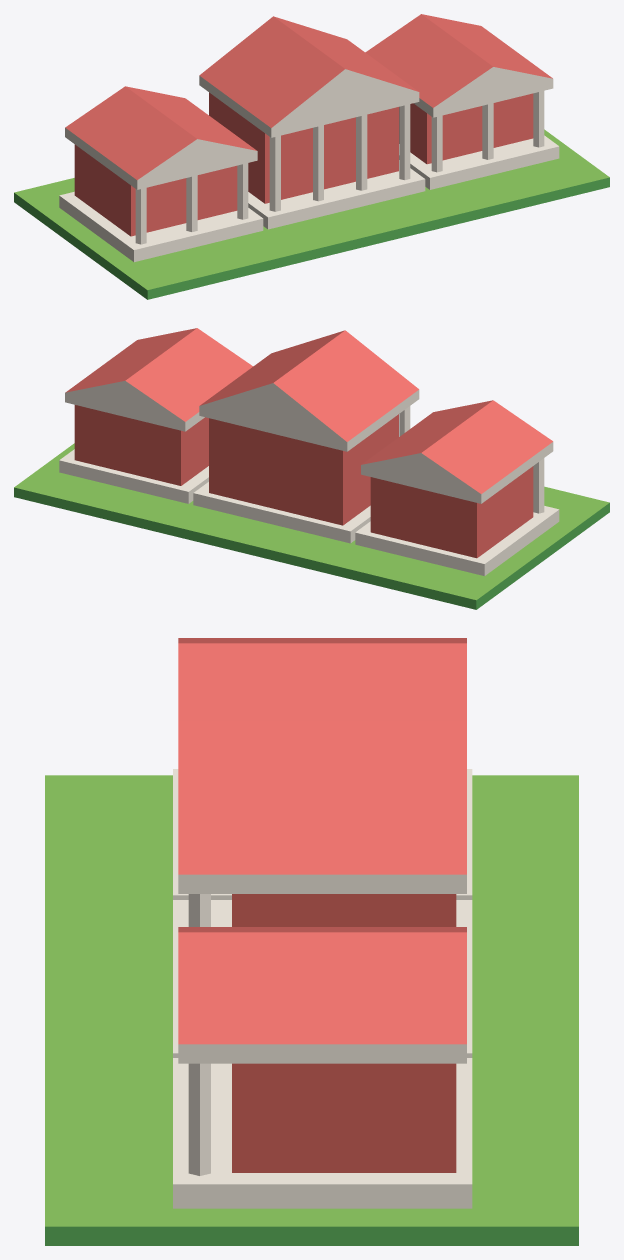
File: skill_placevalue_hall_t2.glb
3 views of the same model, one above another, from view 1: azimuth 30°, elevation 25°; view 2: azimuth 150°, elevation 25°; view 3: azimuth 270°, elevation 25° (orthographic). The views are drawn at different scales.
Visible parts, largest first — view 1: wing_center, wing_left, base, wing_right; view 2: wing_center, wing_left, base, wing_right; view 3: base, wing_right, wing_center, wing_left.
Boxes of the visible parts, <box> form: wing_center: <box>199,16,425,229</box>; wing_left: <box>59,86,263,262</box>; base: <box>14,129,609,299</box>; wing_right: <box>365,14,559,189</box>; wing_center: <box>193,330,419,543</box>; wing_left: <box>355,400,559,575</box>; base: <box>14,443,609,609</box>; wing_right: <box>59,328,252,503</box>; base: <box>45,775,578,1245</box>; wing_right: <box>173,927,472,1208</box>; wing_center: <box>173,720,472,1057</box>; wing_left: <box>173,638,472,899</box>.
Bounding box in the file's own units: 2 × 0.62 × 1.
